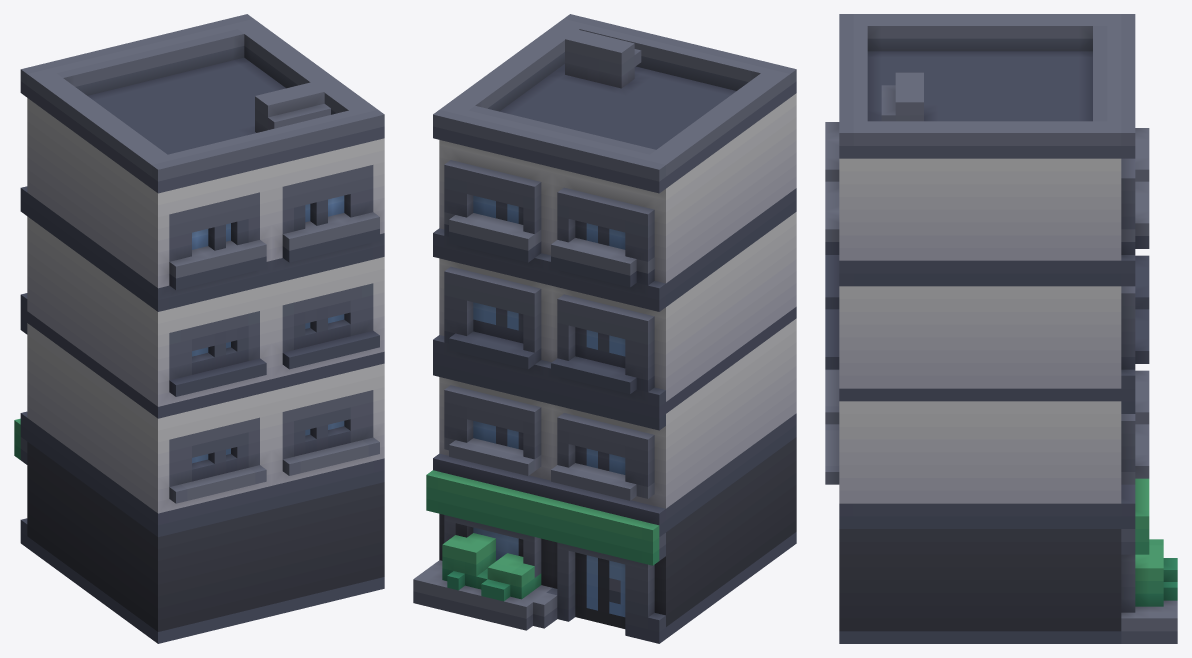
The model's file is building_f.glb.
3 renders of one model, left to right at view 1: azimuth 30°, elevation 25°; view 2: azimuth 150°, elevation 25°; view 3: azimuth 270°, elevation 25°, orthographic. The views are drawn at different scales.
Visible parts, largest first — view 1: voxels; view 2: voxels; view 3: voxels.
Part boxes in pixels (left/top/right/bottom): voxels: left=14, top=14, right=384, bottom=643; voxels: left=413, top=14, right=796, bottom=643; voxels: left=825, top=14, right=1177, bottom=643.
Size of the model in its own units: 0.8466 by 1.74 by 1.06.
